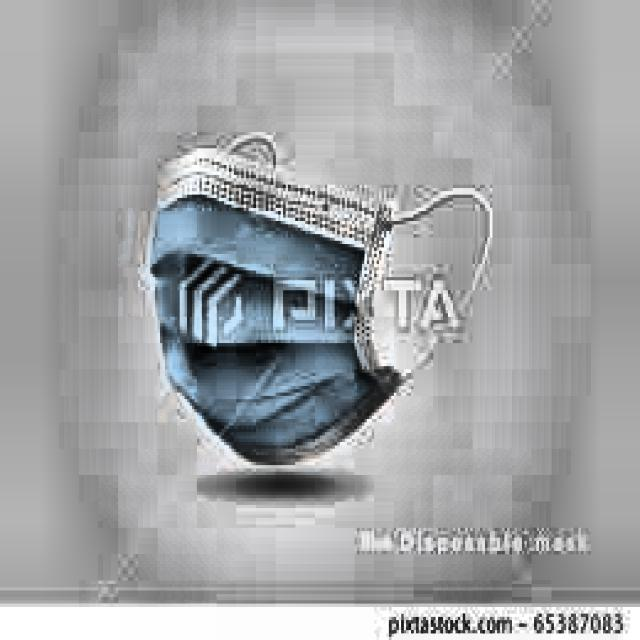trash: (152, 131, 427, 470)
